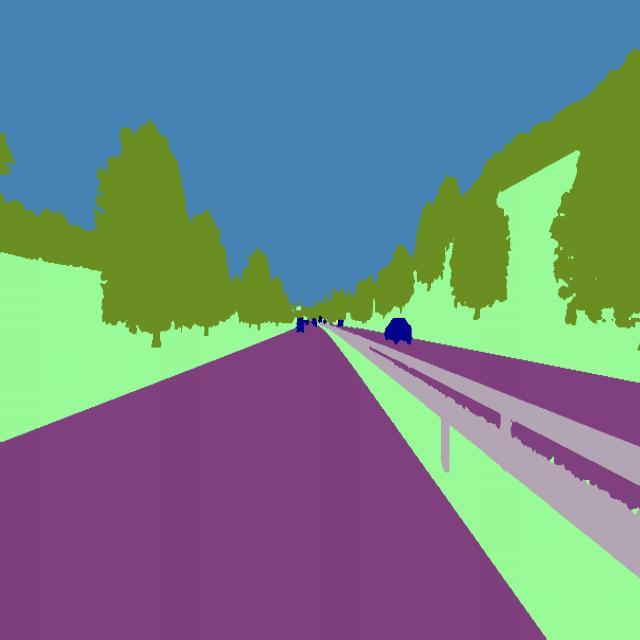safe: (384, 315, 414, 347), (294, 314, 306, 336)
